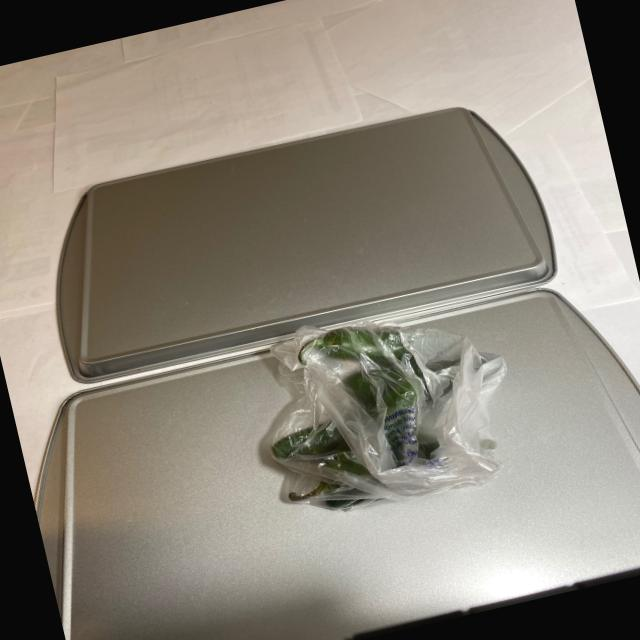chilli: (242, 298, 522, 526)
